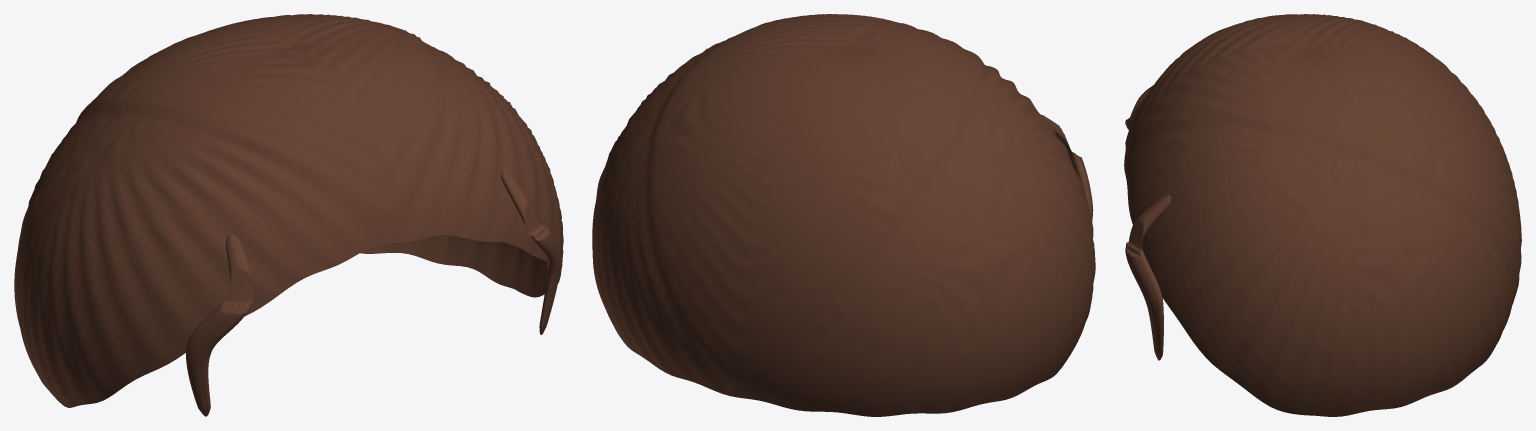
The model's file is Feminine-space-buns-cowboy251-hair.glb.
3 renders of one model, left to right at view 1: azimuth 30°, elevation 25°; view 2: azimuth 150°, elevation 25°; view 3: azimuth 270°, elevation 25°, orthographic. The views are drawn at different scales.
Parts seen in each view (by area): view 1: 226 hair / Hair / chestnut226.002; view 2: 226 hair / Hair / chestnut226.002; view 3: 226 hair / Hair / chestnut226.002.
Boxes of the visible parts, x1=… form: 226 hair / Hair / chestnut226.002: x1=14, y1=14, x2=563, y2=416; 226 hair / Hair / chestnut226.002: x1=592, y1=14, x2=1095, y2=416; 226 hair / Hair / chestnut226.002: x1=1124, y1=14, x2=1521, y2=416.
Size of the model in its own units: 0.9988 by 0.5983 by 0.7845.
